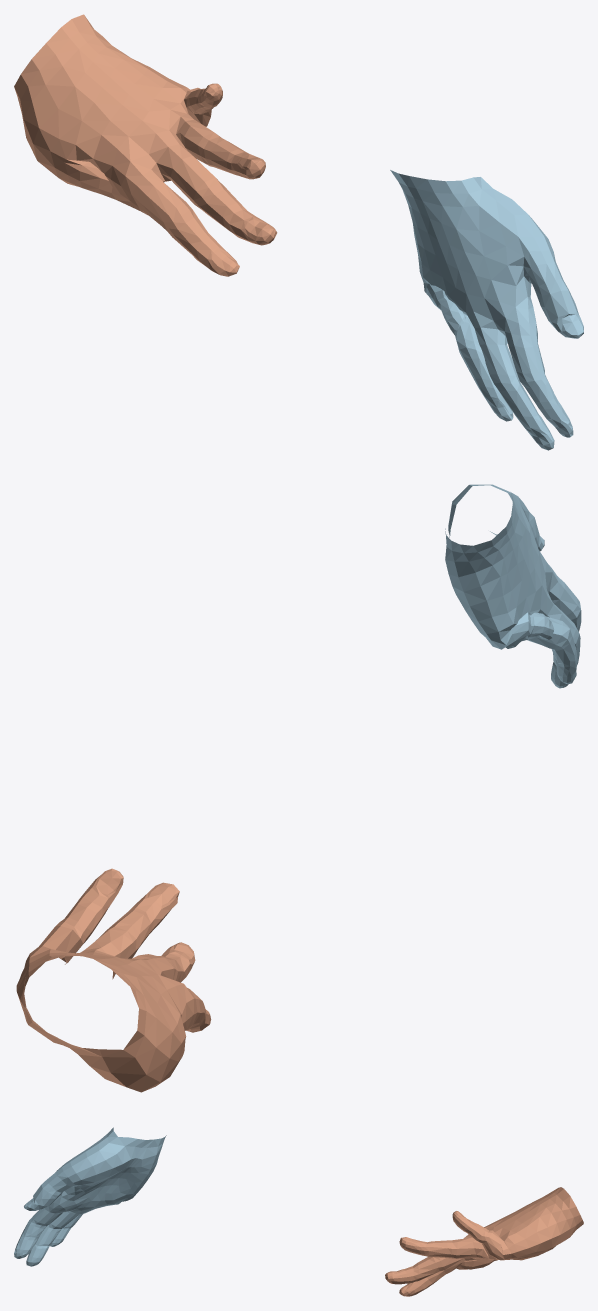
The model's file is frame_024.glb.
3 renders of one model, top to bottom at view 1: azimuth 30°, elevation 25°; view 2: azimuth 150°, elevation 25°; view 3: azimuth 270°, elevation 25°, orthographic. The views are drawn at different scales.
Visible parts, largest first — view 1: world; view 2: world; view 3: world.
Part boxes in pixels (x1,y1,x2,y2): world: (14, 14, 583, 450); world: (16, 484, 581, 1092); world: (14, 1127, 583, 1296).
Bounding box in the file's own units: 0.0852 × 0.1527 × 0.4745.
